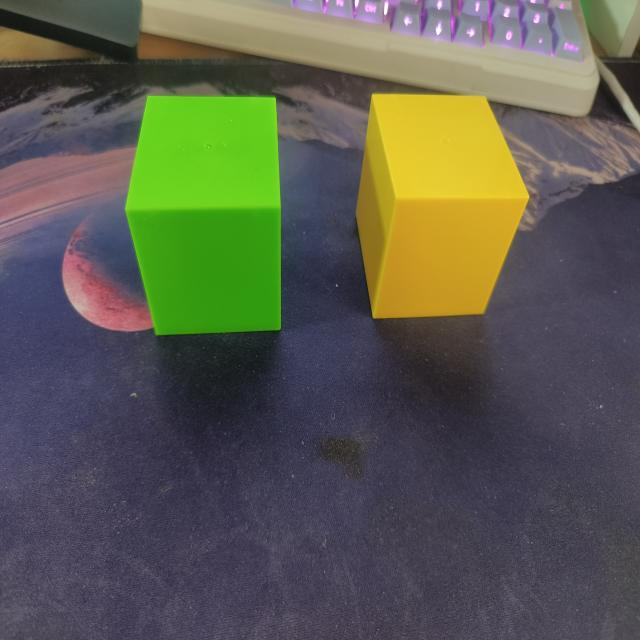green: (121, 84, 287, 341)
yellow: (355, 89, 532, 328)
